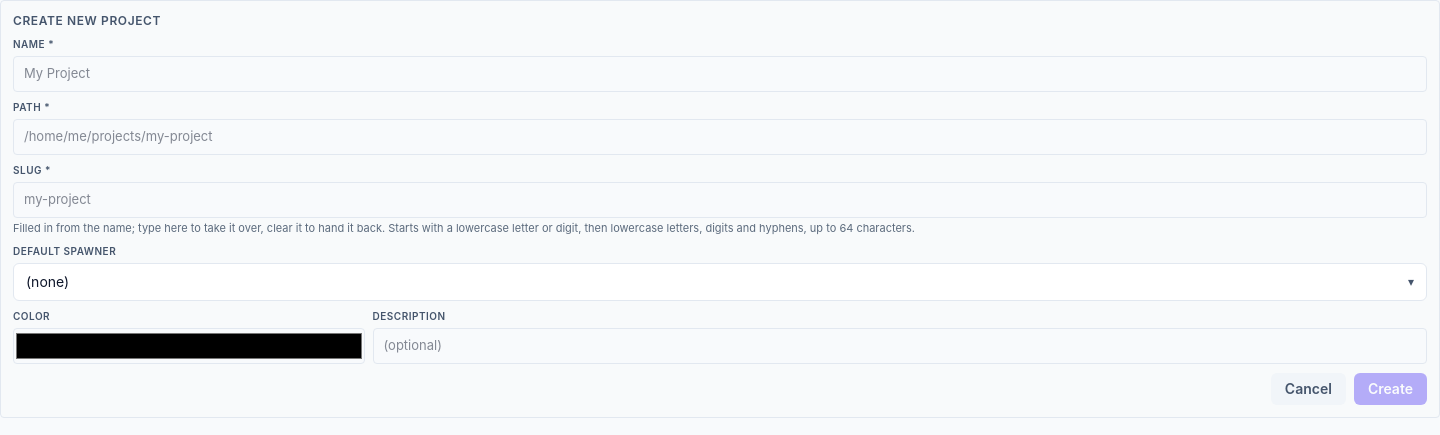
quickCreateProjectPanel › refills the slug the moment the field is cleared, without touching the name
Type "New Thing" into the field named "name" at (720, 74), box [13,56,1427,92]
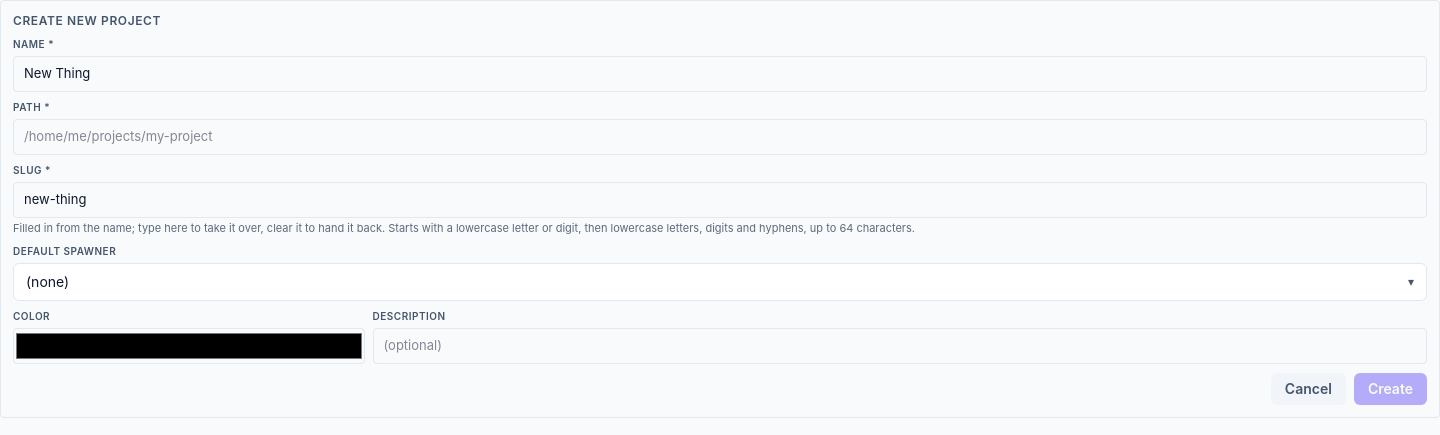
Replace the text in the field named "slug" with "my-own-slug" at (720, 200), box [13,182,1427,218]
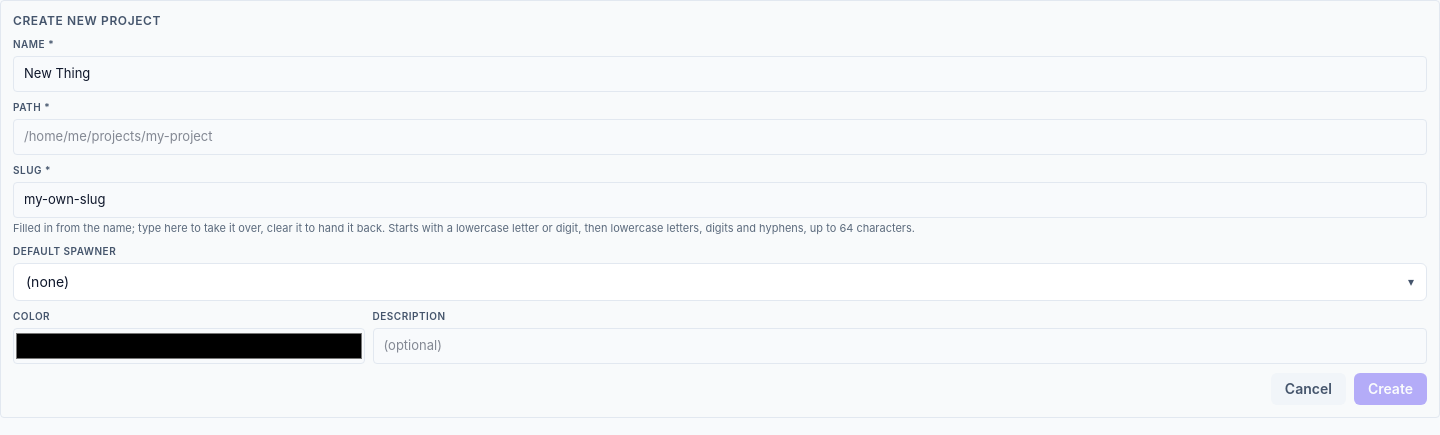
Clear the field named "slug" at (720, 200), box [13,182,1427,218]
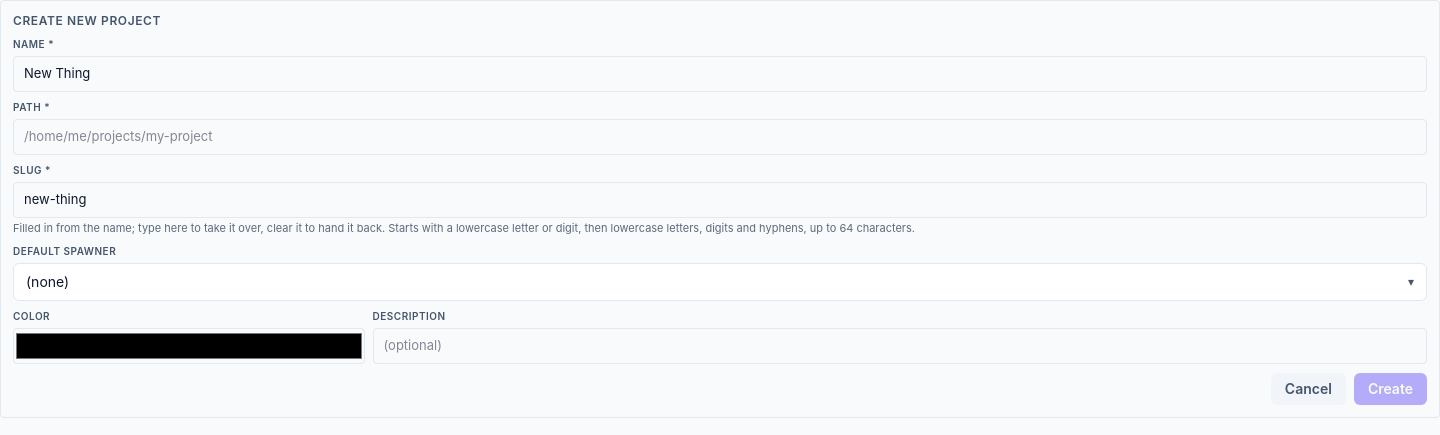
Now the field named "slug" holds "new-thing", box [13,182,1427,218]
